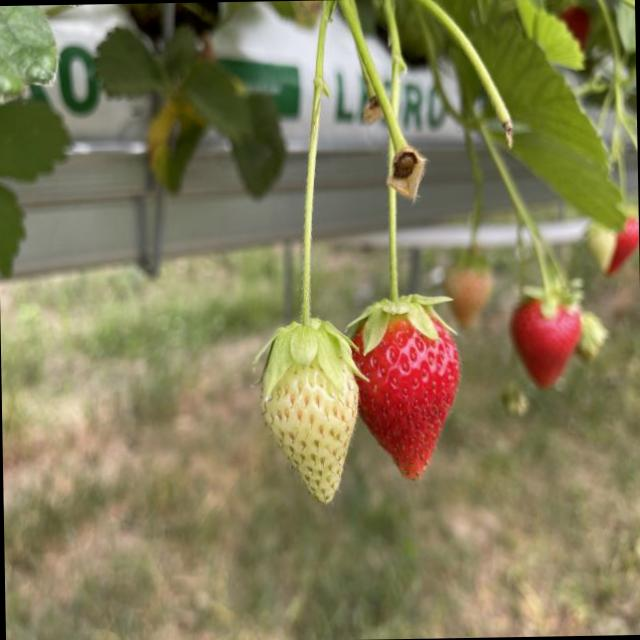stem: (260, 5, 351, 396), (352, 169, 448, 349)
strawberryNR: (261, 364, 354, 501)
strawberryR: (354, 319, 457, 475), (513, 299, 581, 386)
